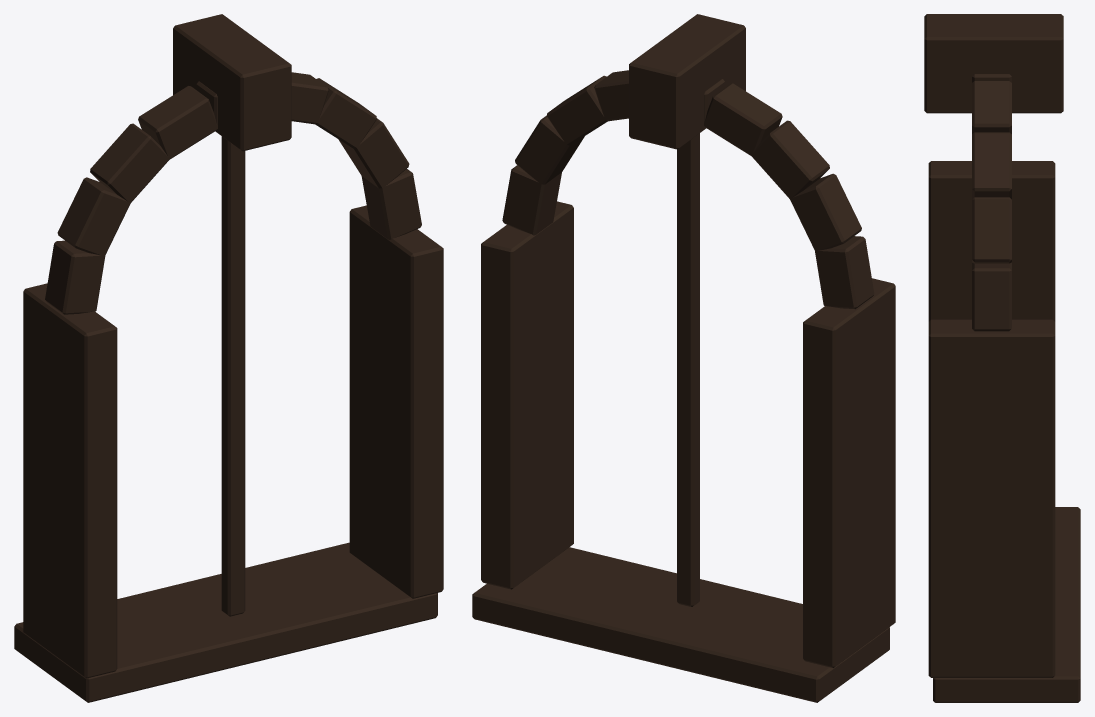
The model's file is frame_archwin.fbx.
3 views of the same model, side by side, from view 1: azimuth 30°, elevation 25°; view 2: azimuth 150°, elevation 25°; view 3: azimuth 270°, elevation 25° (orthographic).
Parts seen in each view (by area): view 1: frame_archwin; view 2: frame_archwin; view 3: frame_archwin.
Part boxes in pixels (box(x1,y1,x2,y2)): frame_archwin: box(14, 14, 443, 702); frame_archwin: box(472, 14, 895, 702); frame_archwin: box(924, 14, 1080, 702).
Bounding box in the file's own units: 490 × 775 × 185.
